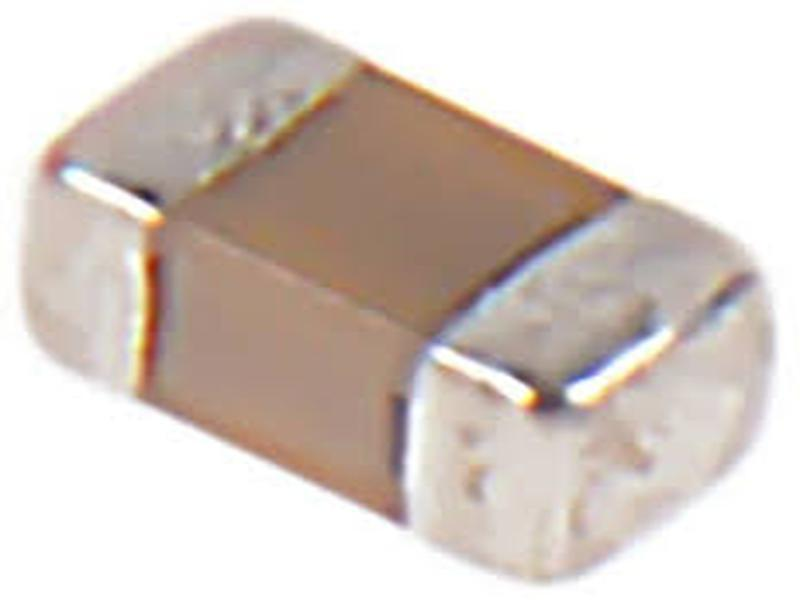SMD capacitor: (16, 7, 777, 580)
